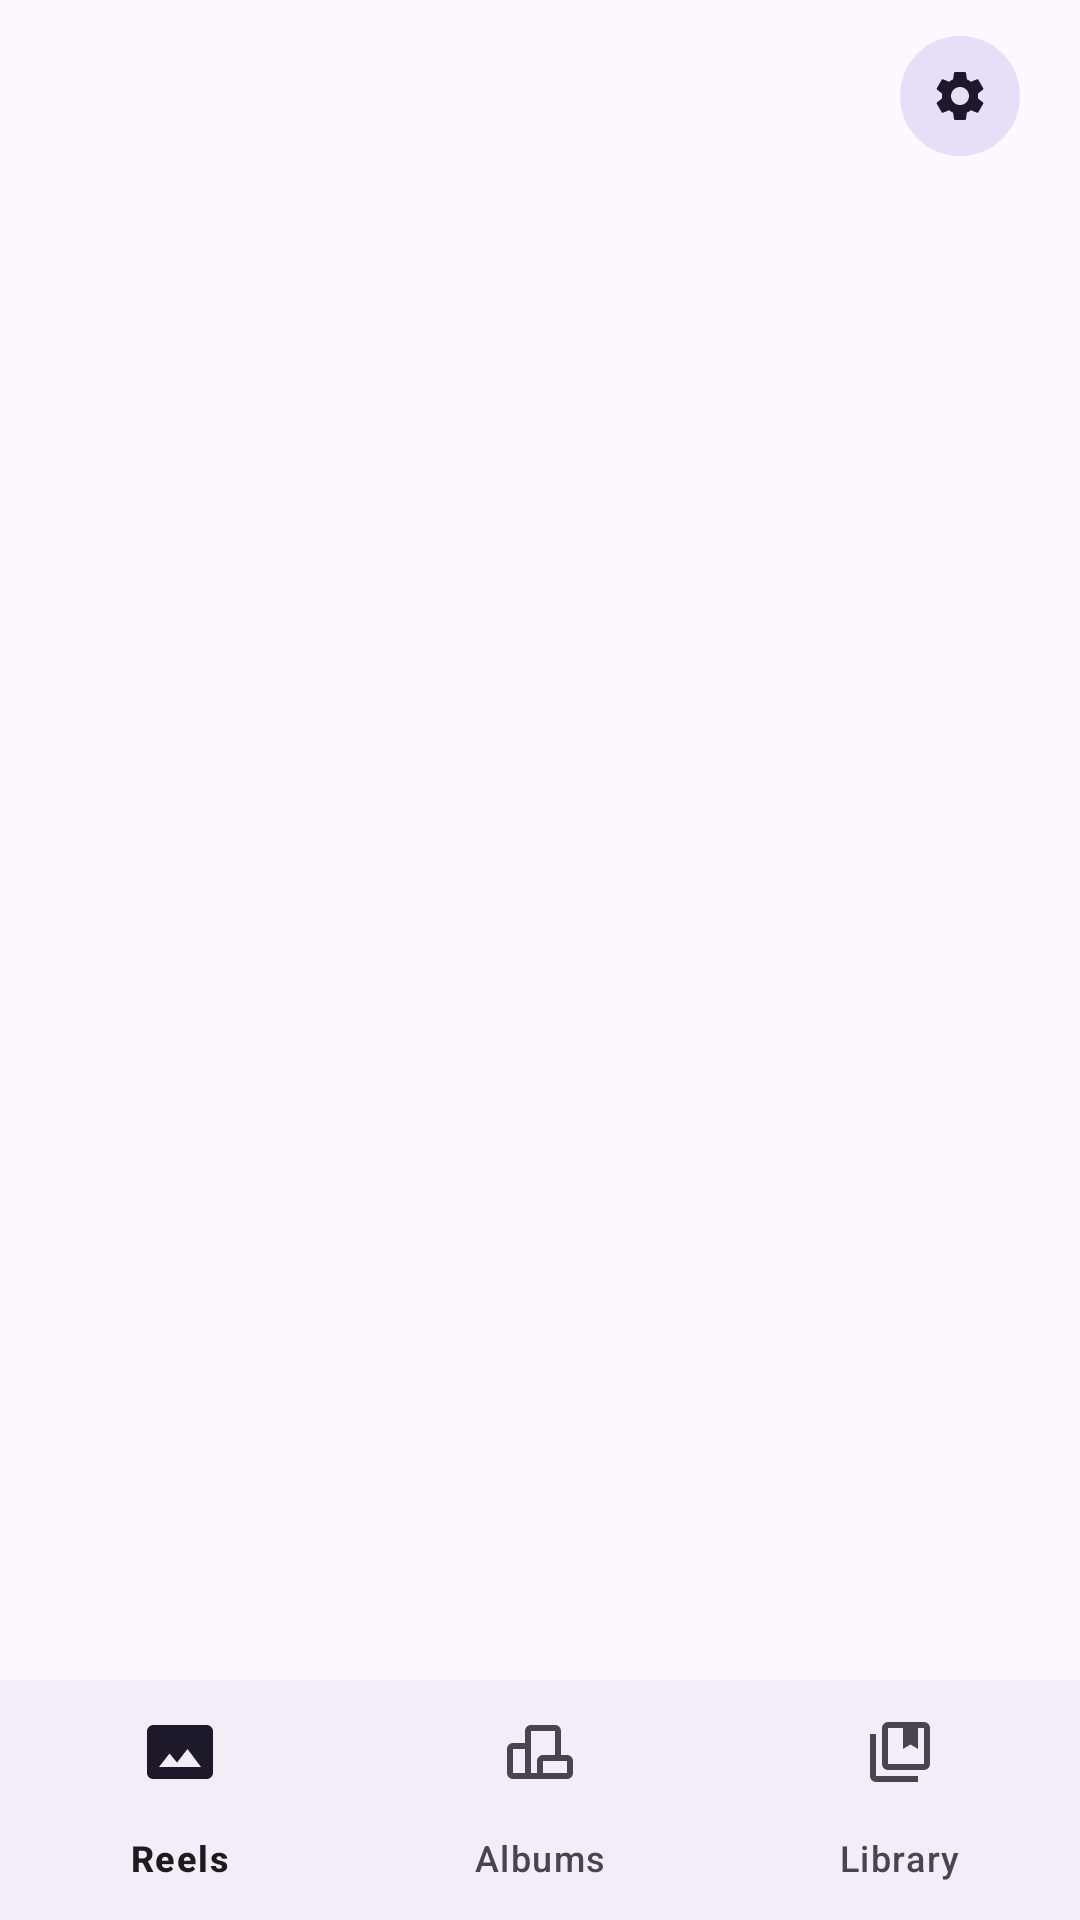

Point at icon controls on the screen. Image size 1080 x 1920, points as point (x, y).
Settings: point (960, 96)
